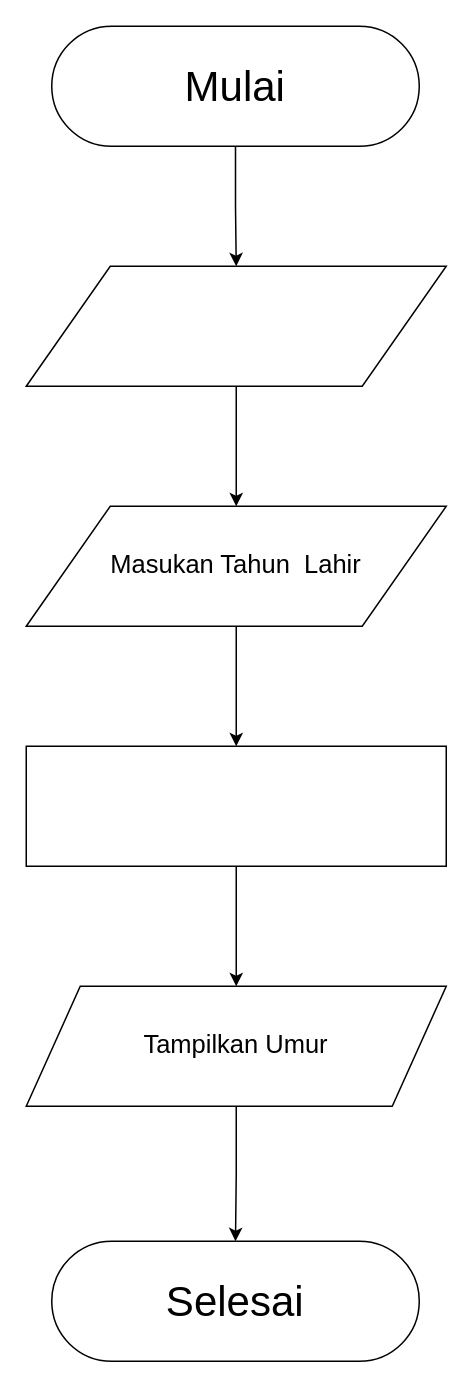
This 473x1388 diagram has some shape labels left out. The shapes that lost their labels are listed below. From the top down, each one's box as (x1, y1, x2, y2) in pixels, then its label:
(25, 265, 446, 386): Masukan Tahun Sekarang
(25, 745, 446, 866): Umur = Tahun Sekarang - Tahun Lahir
